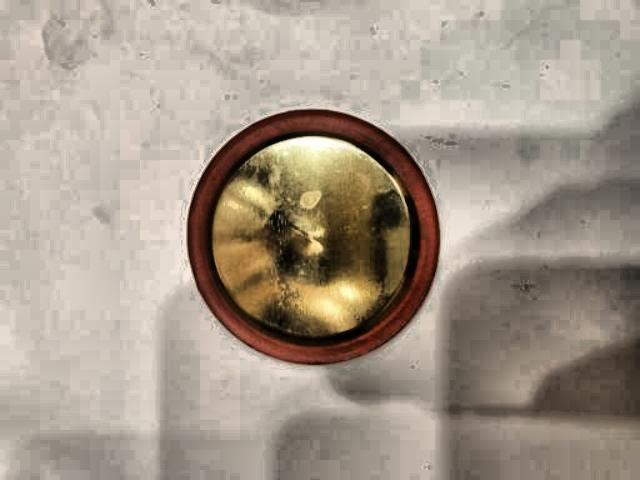Almennt: (159, 91, 465, 405)
